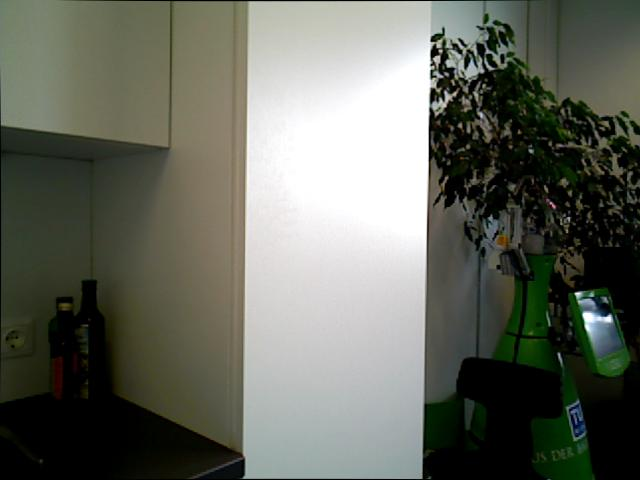bench: (74, 278, 106, 403), (47, 295, 78, 402)
carrot: (429, 10, 640, 287)
hot dog: (242, 0, 430, 478)
